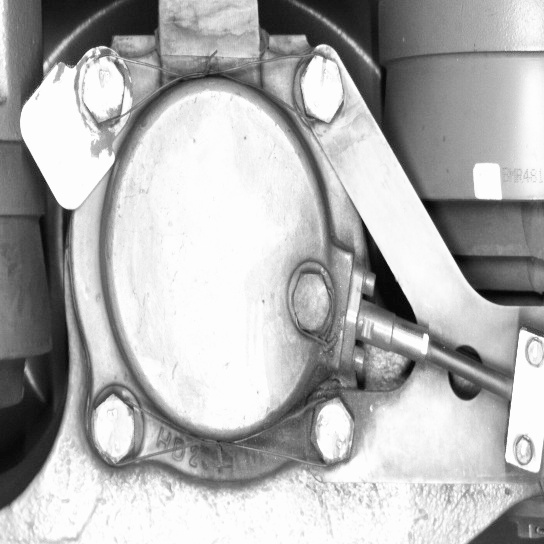IronWire: (65, 43, 350, 134), (80, 389, 366, 473)
Screw: (64, 47, 139, 135), (78, 388, 143, 474), (289, 42, 351, 129), (302, 387, 363, 472), (282, 260, 342, 346)
